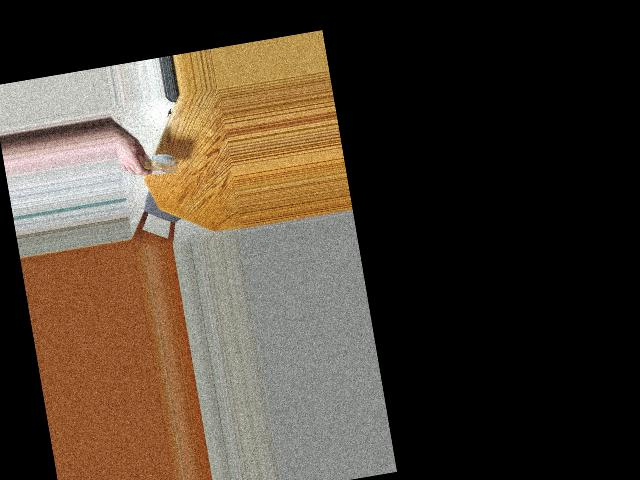cheese: (125, 133, 179, 188)
